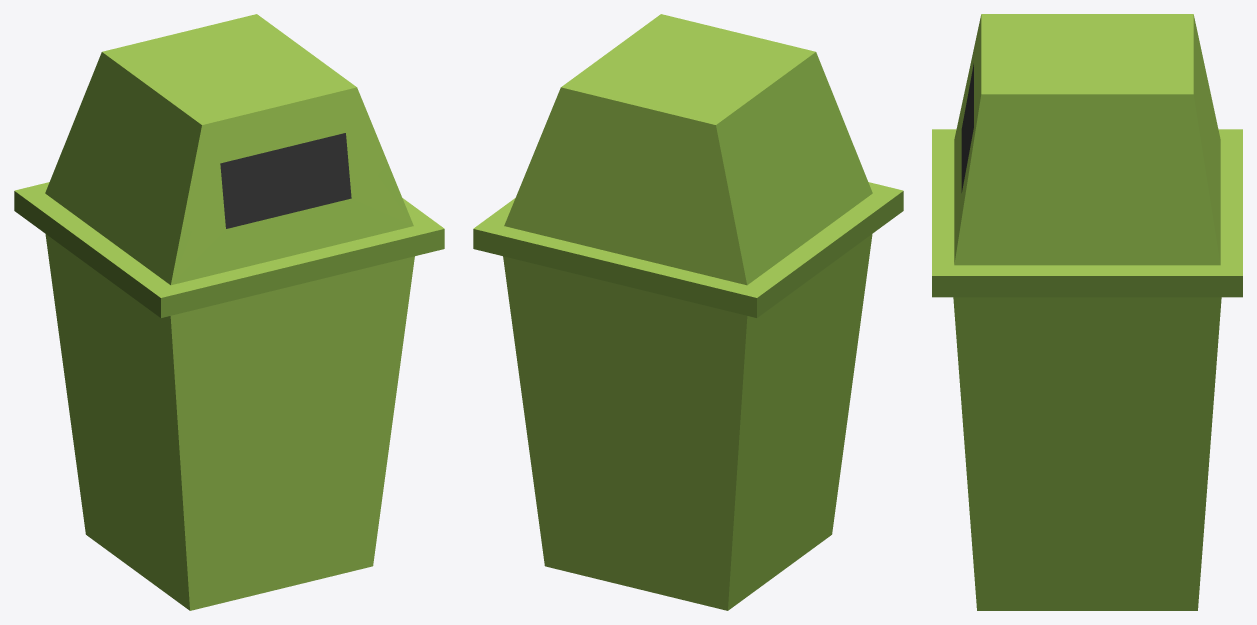
Rendered from SM_RecycleBin_DarkGreen_01.fbx.
3 renders of one model, left to right at view 1: azimuth 30°, elevation 25°; view 2: azimuth 150°, elevation 25°; view 3: azimuth 270°, elevation 25°, orthographic. The views are drawn at different scales.
Visible parts, largest first — view 1: SM_RecycleBin_DarkGreen_01; view 2: SM_RecycleBin_DarkGreen_01; view 3: SM_RecycleBin_DarkGreen_01.
Boxes of the visible parts, x1,y1,x2,y2 form: SM_RecycleBin_DarkGreen_01: [14, 14, 444, 610]; SM_RecycleBin_DarkGreen_01: [473, 14, 903, 610]; SM_RecycleBin_DarkGreen_01: [932, 14, 1242, 610].
Size of the model in its own units: 1.02 by 1.66 by 0.9159.
